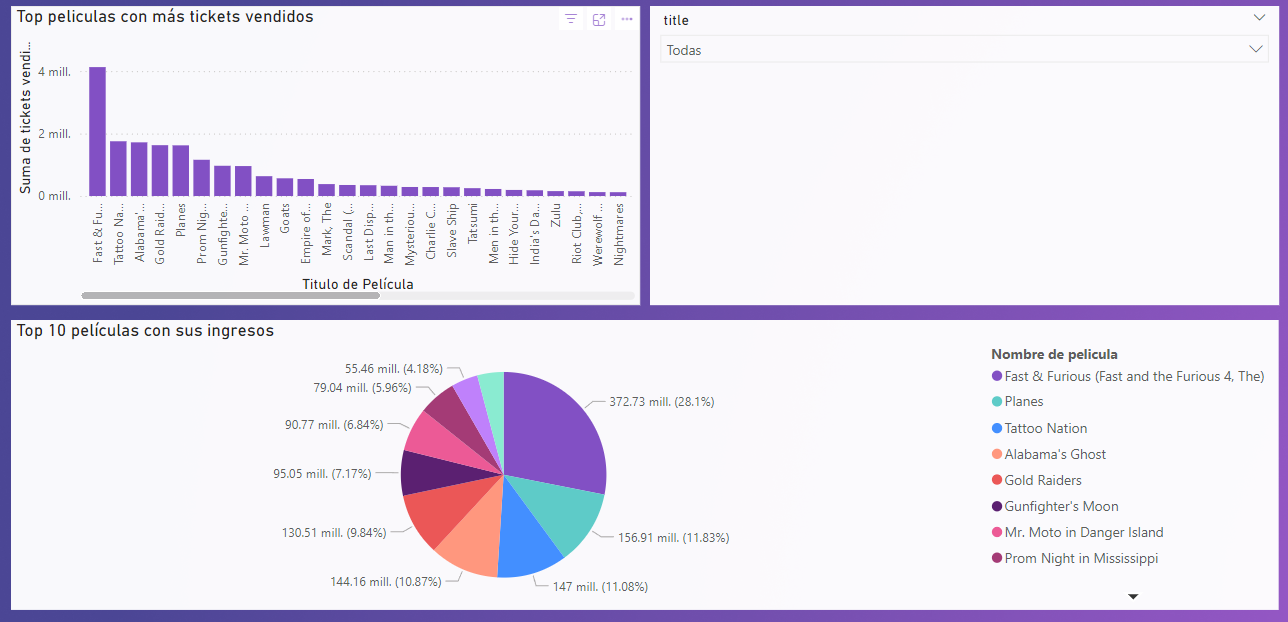

What the dashboard file says about the page in this screenshot:
{"tool":"powerbi","page":{"name":"Peliculas populares","canvas":[1280,720],"ordinal":3},"visuals":[{"type":"columnChart","title":"Top peliculas con más tickets vendidos","fields":{"Category":["films.title"],"Y":["Sum(tickets.tickets_sold)"]},"box":[30.2,11.7,611.8,290.8],"z":0},{"type":"pieChart","title":"Top 10 películas con sus ingresos","fields":{"Category":["films.title"],"Y":["tickets.Suma de Ventas Totales"]},"box":[30.2,317.1,1233.3,282.1],"z":1000},{"type":"slicer","fields":{"Values":["films.title"]},"box":[652,12,612,291],"z":1001}]}

Visuals, with their boxes on the page's 1280x720 design canvas (x1, y1, x2, y2). These are canvas units, not pixel positions in the 1288x622 screenshot, which may show the page scaled, cropped or inside an application window:
"Top peliculas con más tickets vendidos" columnChart: locate(30, 12, 642, 302)
"Top 10 películas con sus ingresos" pieChart: locate(30, 317, 1264, 599)
slicer - films.title: locate(652, 12, 1264, 303)
